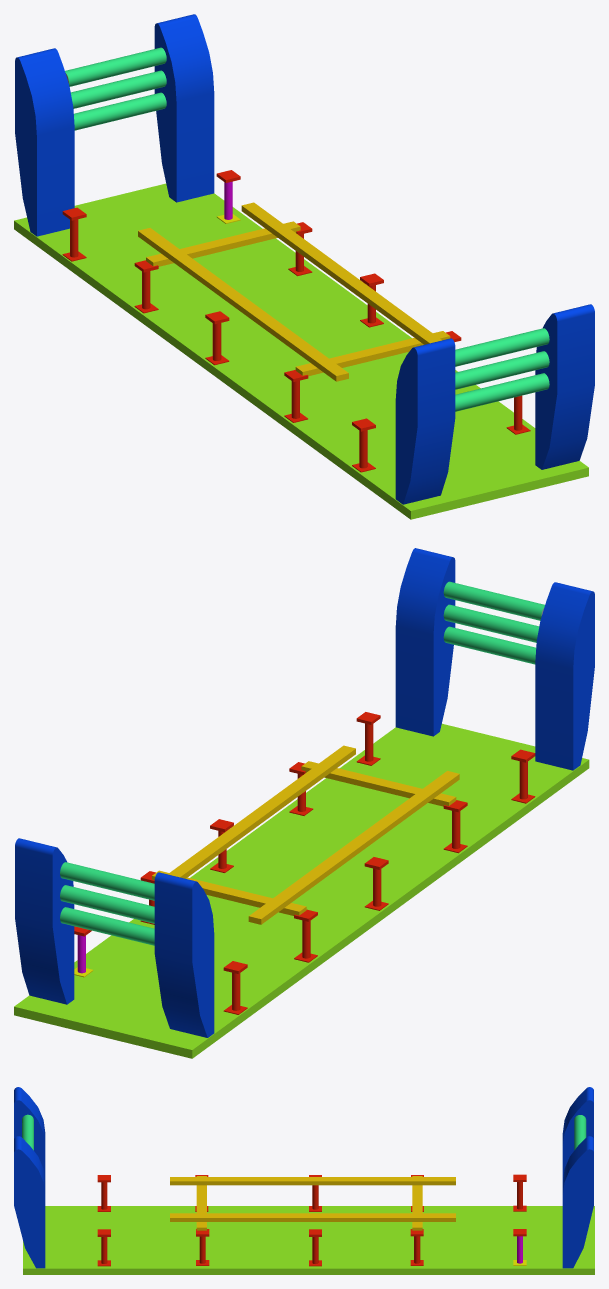
Rendered from Bridge2.fbx.
3 views of the same model, one above another, from view 1: azimuth 30°, elevation 25°; view 2: azimuth 150°, elevation 25°; view 3: azimuth 270°, elevation 25° (orthographic). The views are drawn at different scales.
Visible parts, largest first — view 1: pCube173; view 2: pCube173; view 3: pCube173.
Part boxes in pixels (x1,y1,x2,y2): pCube173: (14,14,594,519); pCube173: (14,548,594,1058); pCube173: (14,1087,594,1274).
Size of the model in its own units: 167 by 155 by 652.
